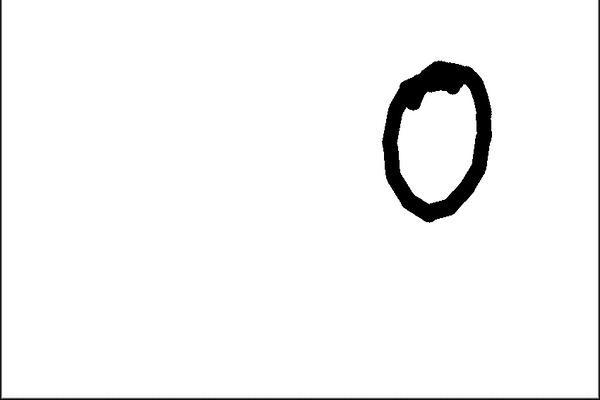O: (377, 57, 500, 224)
